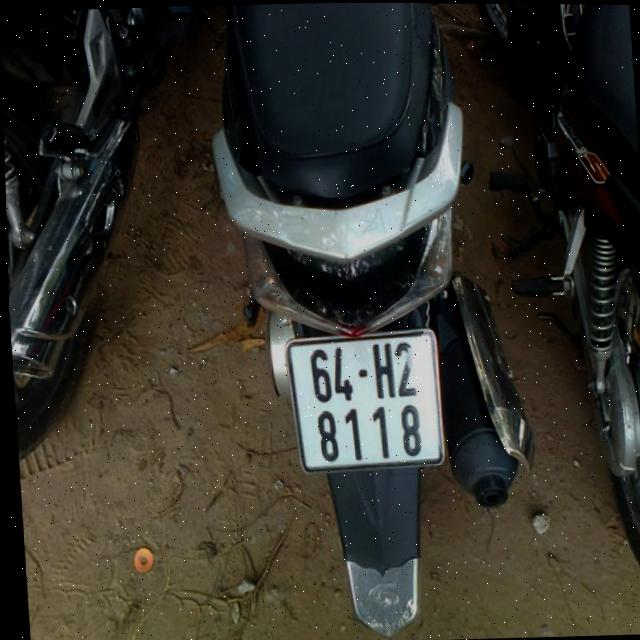motorcycle: (205, 2, 544, 640), (473, 4, 640, 639), (0, 4, 217, 459)
plate: (281, 328, 450, 473)
